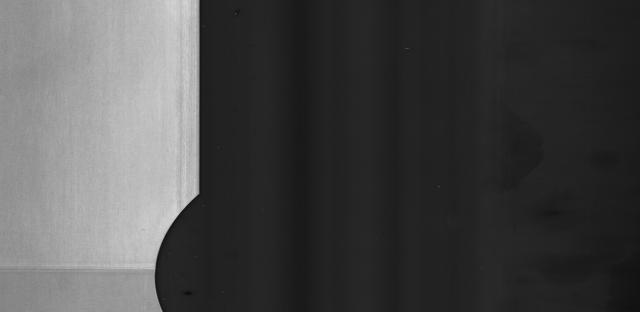crescent_gap: (144, 183, 226, 312)
welding_line: (4, 259, 158, 284)
